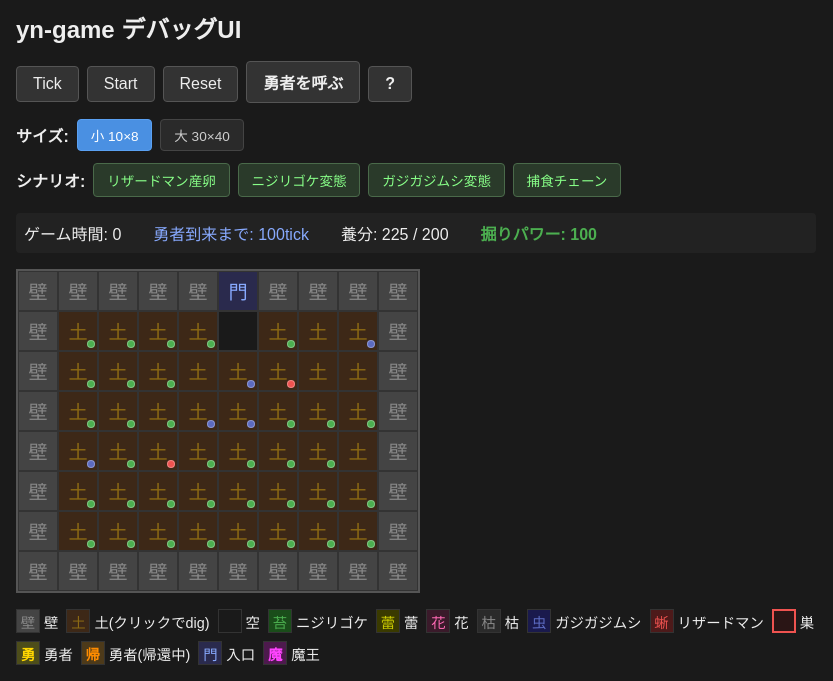
Test: App.vue (characterization before GridView extraction) › keyboard shortcuts › Escape cancels demon-lord placement mode
This screenshot has width=833, height=681.
Click the button "勇者を呼ぶ".
click(303, 82)  # box [246,61,360,103]
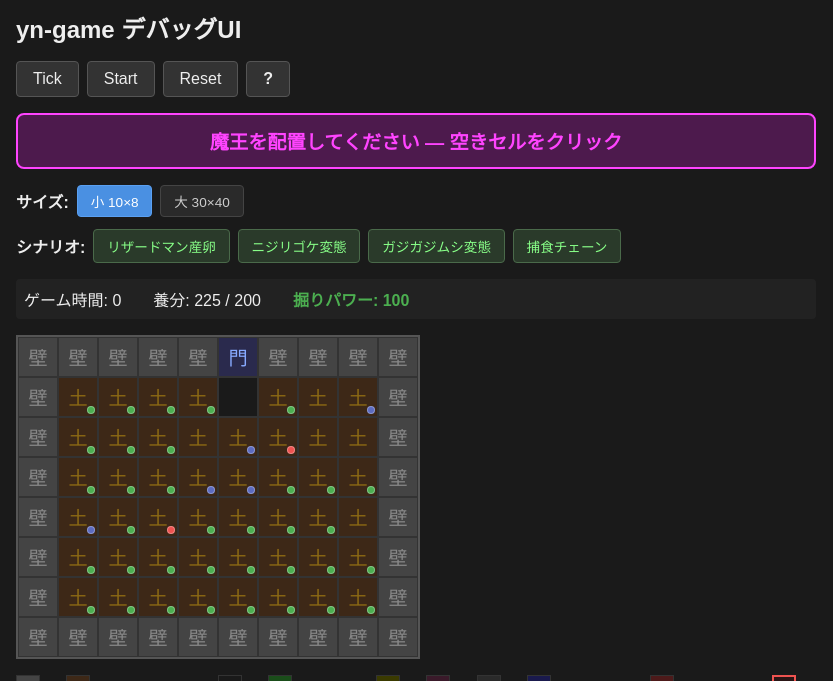
Expected: the text "魔王を配置してください — 空きセルをクリック" is shown, [16,113,816,169]
